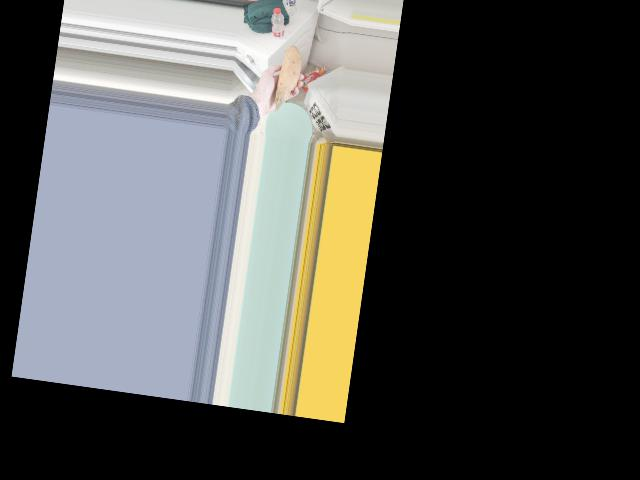sweet_potato: (272, 50, 303, 106)
